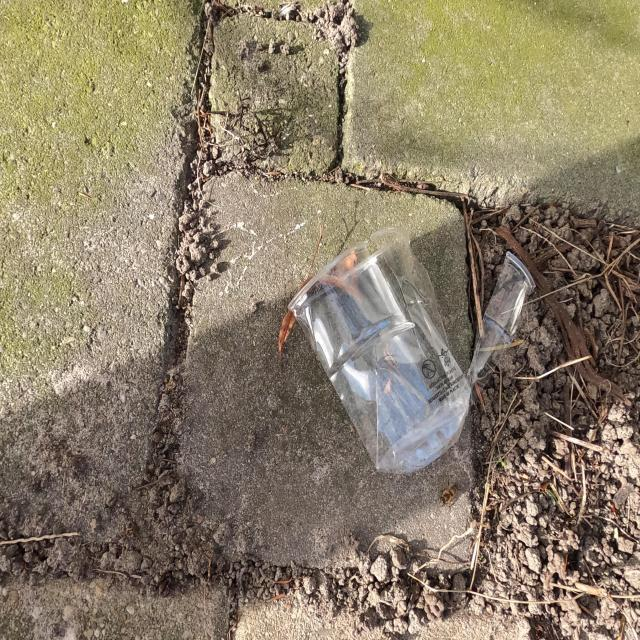Cup: (296, 220, 528, 464)
